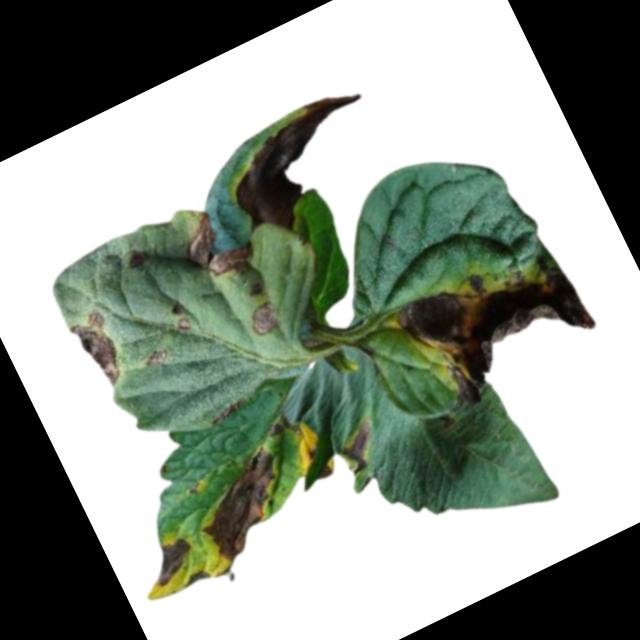Early_blight: (390, 232, 605, 420), (217, 81, 402, 246), (178, 446, 305, 571), (172, 200, 264, 293), (66, 310, 132, 395), (141, 531, 203, 589), (336, 420, 388, 475), (244, 299, 283, 340), (299, 444, 336, 485), (209, 398, 246, 428), (181, 565, 211, 589), (141, 348, 168, 370), (171, 315, 194, 335), (123, 251, 146, 271)
